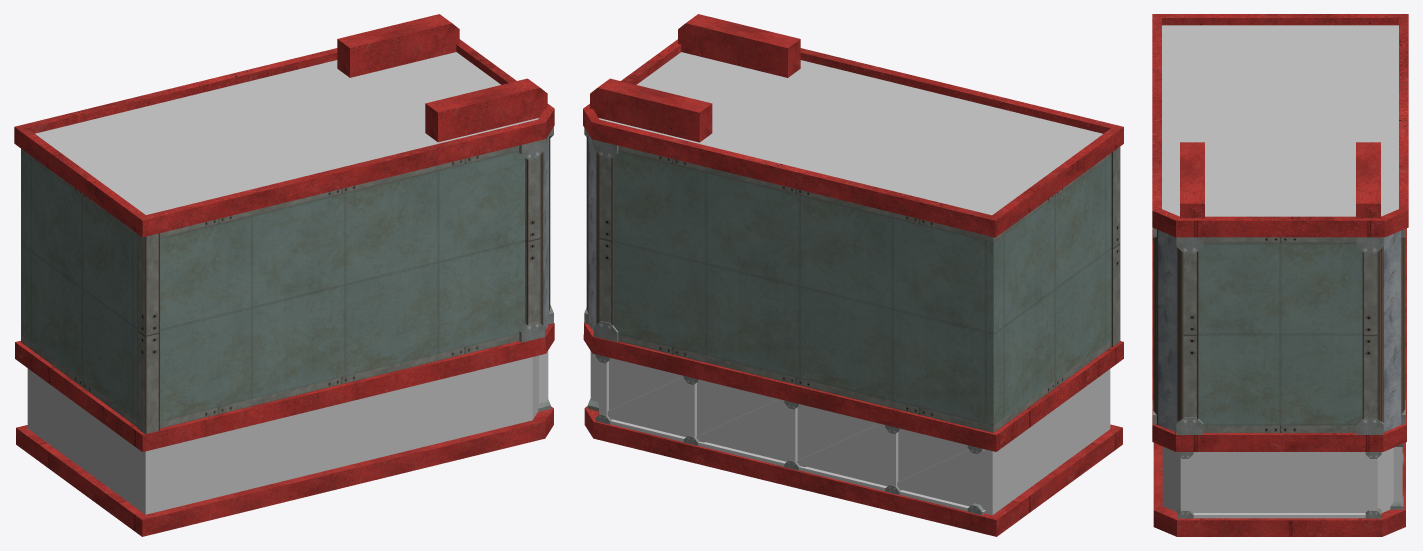
The model's file is Ob_Building1Full_RC.fbx.
The picture shows the model from 3 angles, left to right: view 1: azimuth 30°, elevation 25°; view 2: azimuth 150°, elevation 25°; view 3: azimuth 270°, elevation 25°; orthographic projection.
Parts seen in each view (by area): view 1: Ob_Building1Full_RC; view 2: Ob_Building1Full_RC; view 3: Ob_Building1Full_RC.
Boxes of the visible parts, x1,y1,x2,y2 form: Ob_Building1Full_RC: [14, 14, 554, 536]; Ob_Building1Full_RC: [583, 14, 1123, 536]; Ob_Building1Full_RC: [1152, 14, 1408, 536].
Size of the model in its own units: 3161 by 2417 by 1656.
